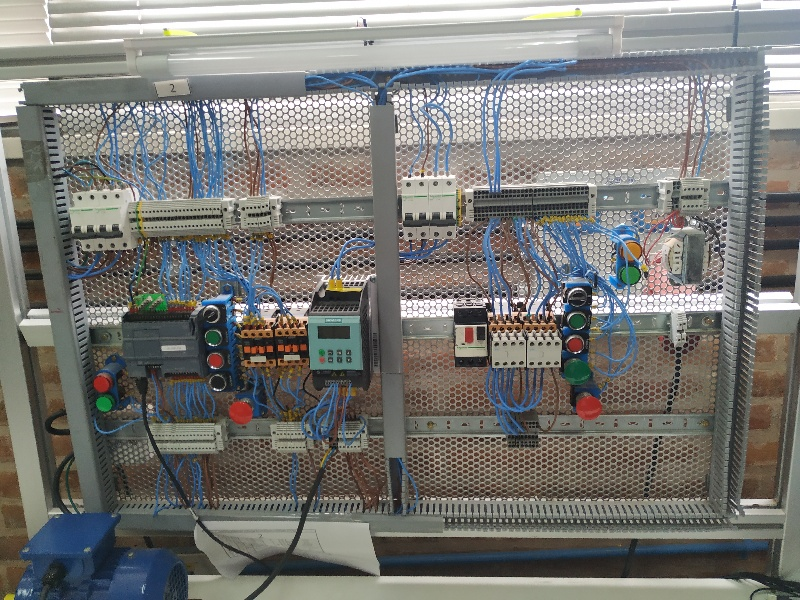Tablero 2: (38, 65, 748, 517)
